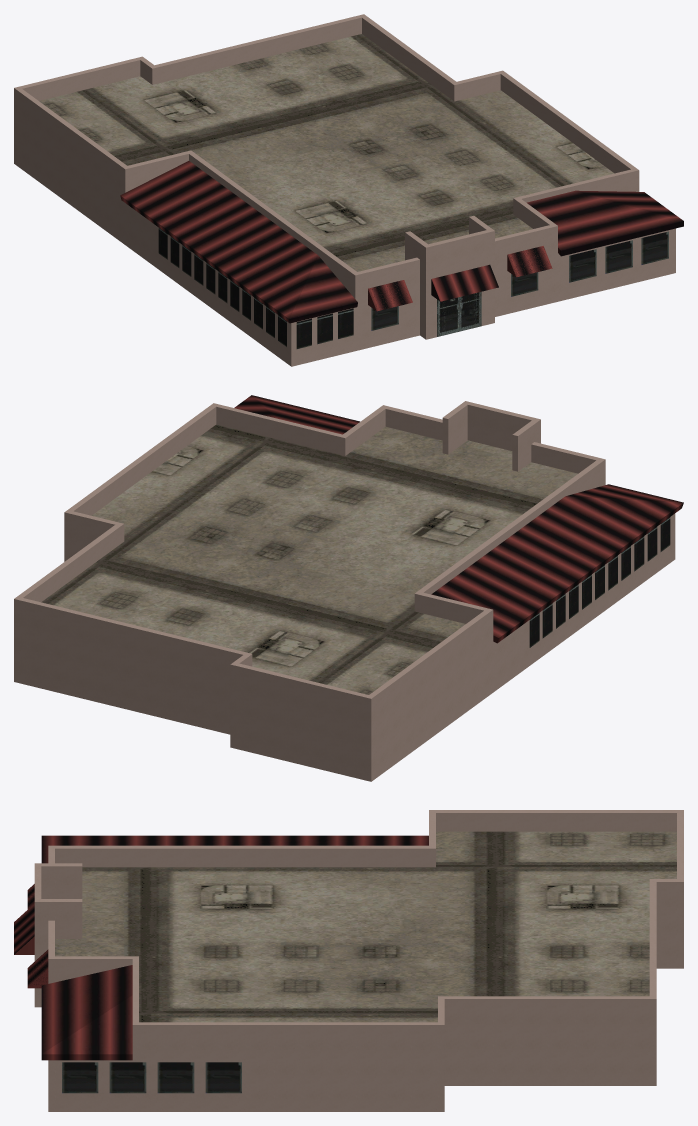
3 renders of one model, top to bottom at view 1: azimuth 30°, elevation 25°; view 2: azimuth 150°, elevation 25°; view 3: azimuth 270°, elevation 25°, orthographic. The views are drawn at different scales.
Visible parts, largest first — view 1: SketchUp (×4), Component_23 (×2), Component_24 (×4), Component_21 (×3); view 2: SketchUp (×4); view 3: SketchUp (×4), Component_21 (×4), Component_23, Component_24.
Boxes of the visible parts, x1=… form: SketchUp (×4): x1=14, y1=14, x2=683, y2=366; Component_23 (×2): x1=431, y1=264, x2=498, y2=336; Component_24 (×4): x1=368, y1=246, x2=552, y2=330; Component_21 (×3): x1=569, y1=231, x2=668, y2=282; SketchUp (×4): x1=14, y1=395, x2=683, y2=781; SketchUp (×4): x1=34, y1=810, x2=683, y2=1111; Component_21 (×4): x1=62, y1=1062, x2=241, y2=1093; Component_23: x1=14, y1=904, x2=34, y2=954; Component_24: x1=27, y1=949, x2=48, y2=988.
Bounding box in the file's own units: 915 × 1175 × 204.
Materials: 5 (5 with a texture image).
